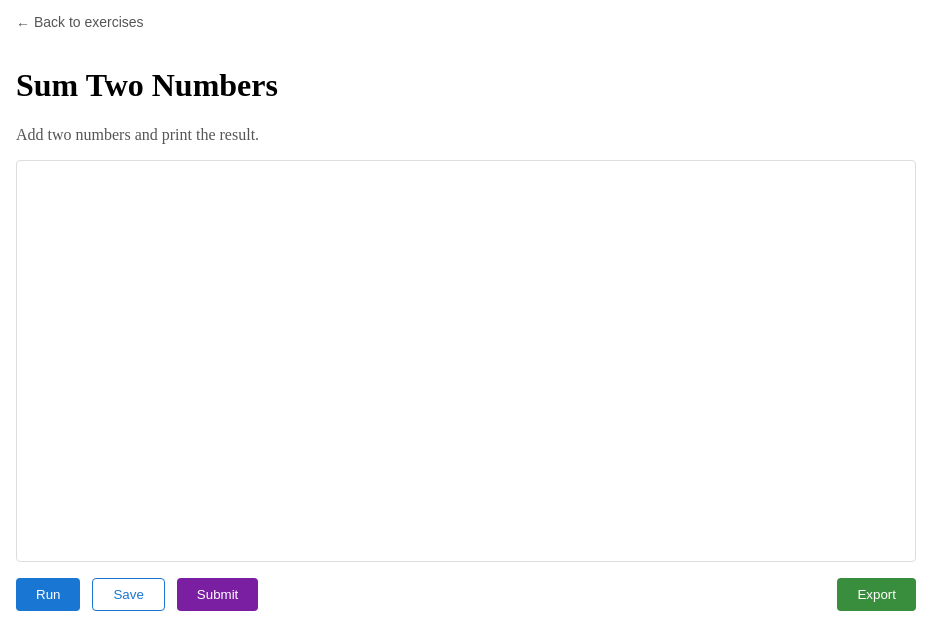
Run button › button is disabled while running
This screenshot has width=933, height=628.
Step 1. Click the button "Run" → (48, 594), box [16,578,80,611]
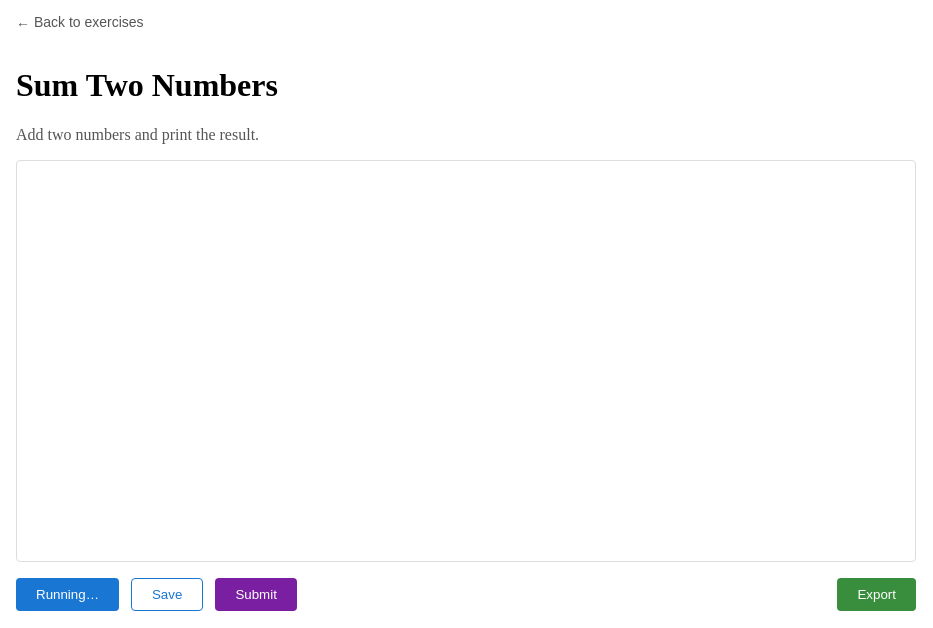
Expected: the button "Running…" is disabled, [16,578,119,611]
